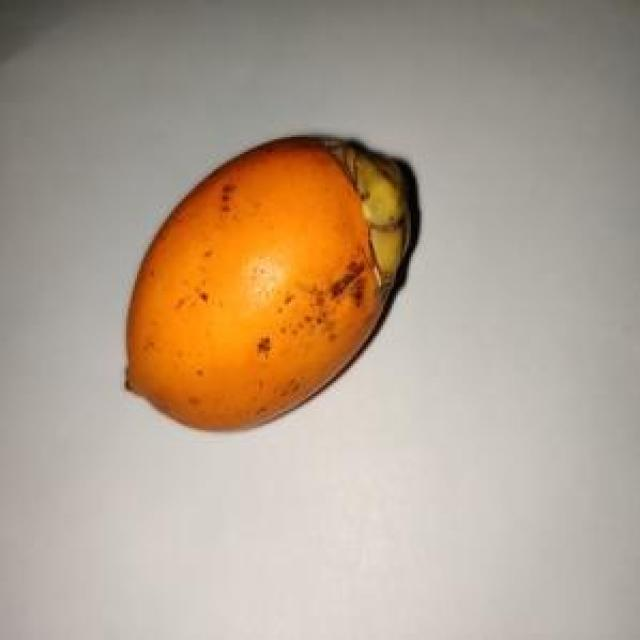good: (124, 137, 420, 435)
